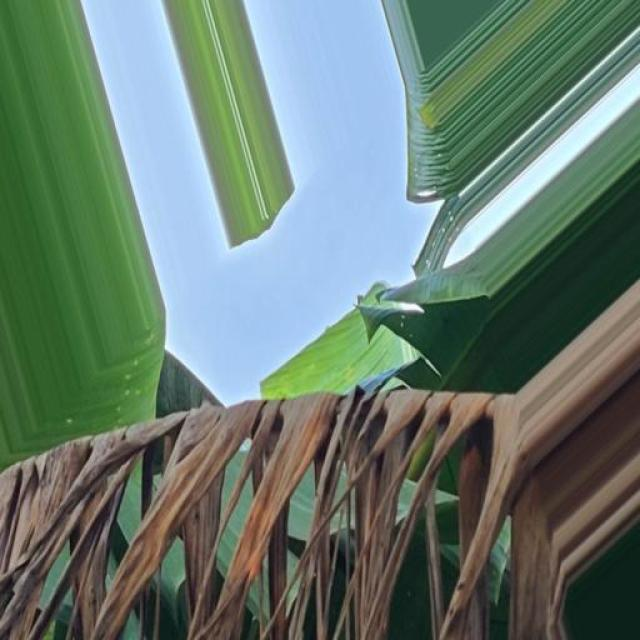Bract_mosaic_virus: (0, 376, 640, 640)
